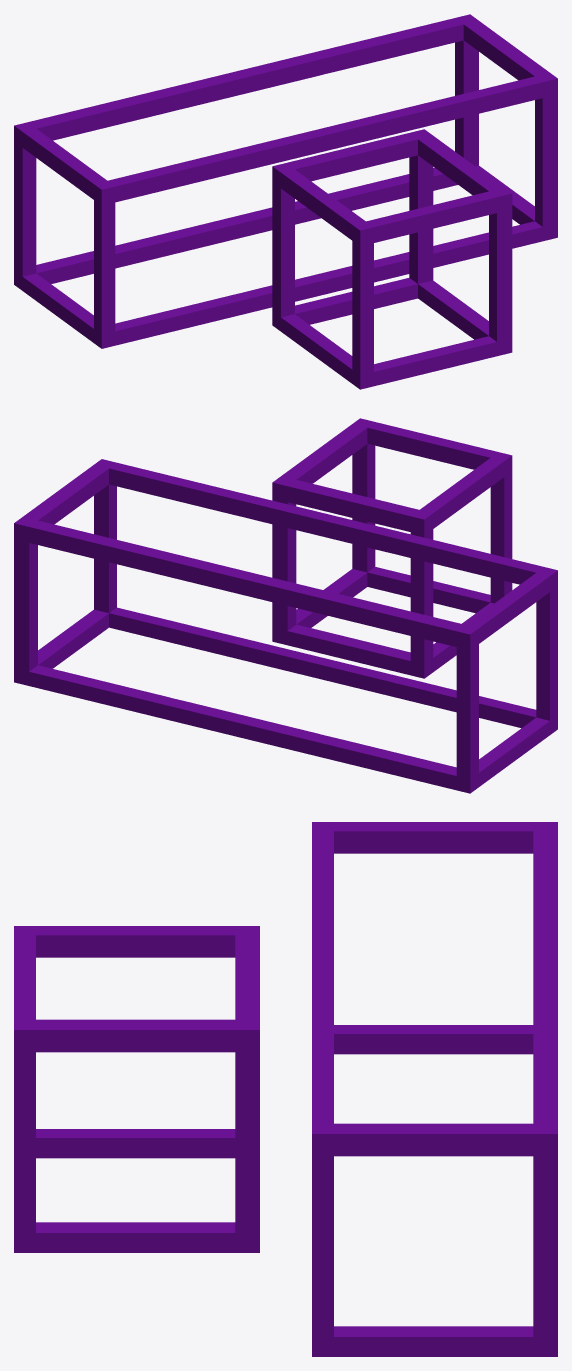
File: Fall_Block 1.fbx
3 renders of one model, top to bottom at view 1: azimuth 30°, elevation 25°; view 2: azimuth 150°, elevation 25°; view 3: azimuth 270°, elevation 25°, orthographic. The views are drawn at different scales.
Visible parts, largest first — view 1: 1, 3, 2, 4; view 2: 1, 3, 2, 4; view 3: 1, 2, 3, 4.
Boxes of the visible parts, x1,y1,x2,y2 form: 1: (272,129,512,389); 3: (14,88,253,348); 2: (318,14,557,274); 4: (166,51,405,311); 1: (272,418,512,678); 3: (318,533,557,793); 2: (14,459,253,719); 4: (166,496,405,756); 1: (14,926,259,1252); 2: (312,1030,557,1356); 3: (312,822,557,1054); 4: (312,926,557,1029).
Bounding box in the file's own units: 357 × 119 × 263.
